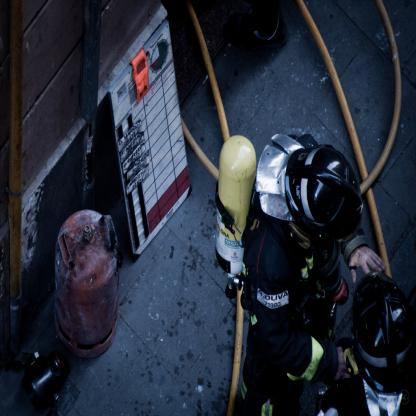Helmet: (253, 130, 365, 253), (348, 270, 416, 416)
